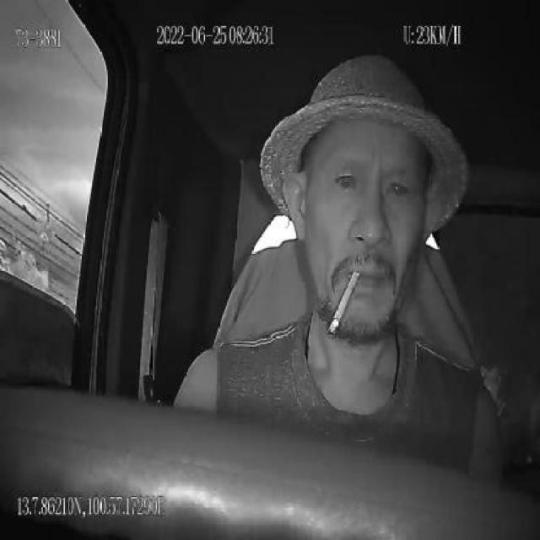smoking: (329, 268, 360, 335)
